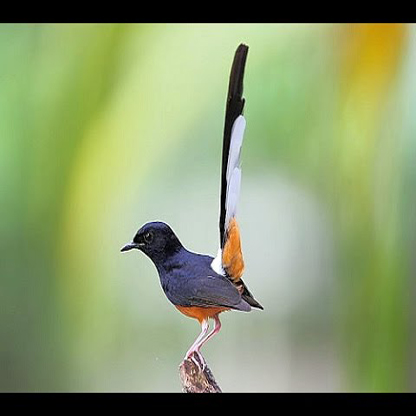bird: (120, 220, 267, 322)
